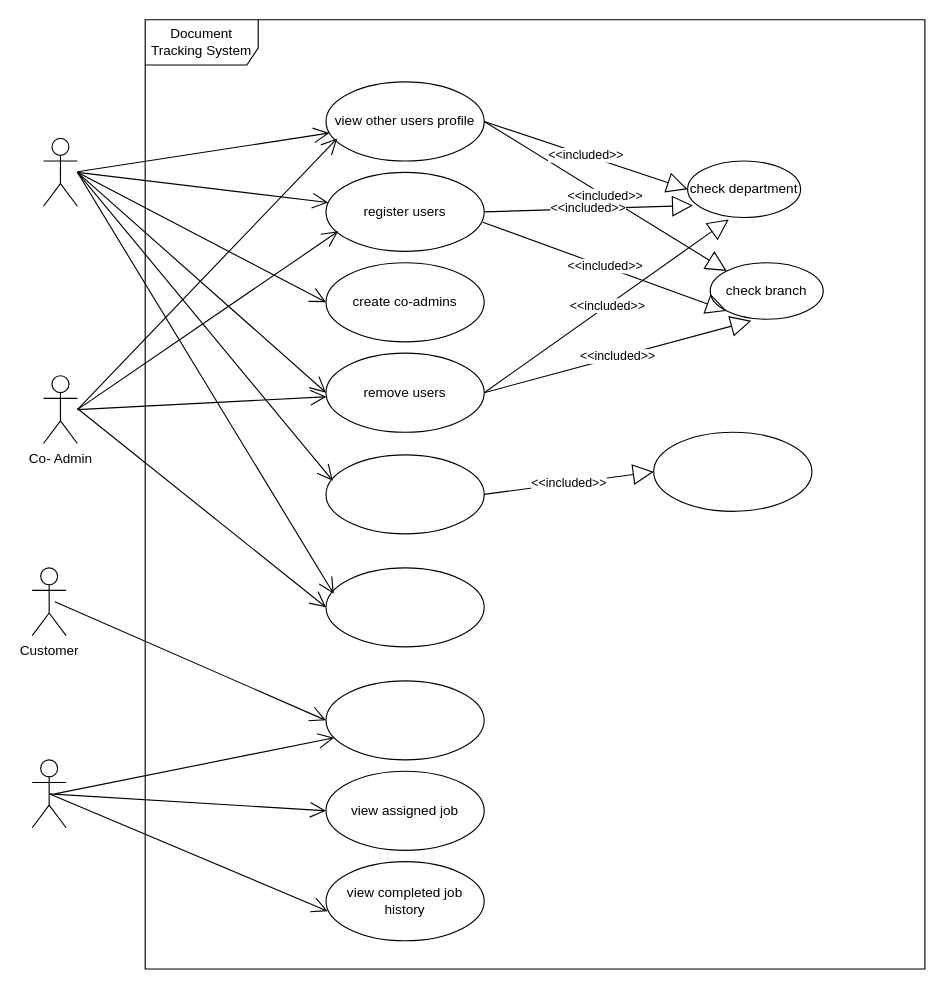
The diagram is 945 pixels wide and 989 high, and some of its shapes have lost their labels. The shapes that lost their labels are listed below. From the top down, each one's centre as x and y in pixels, then its label:
At (x=59, y=171): "Admin".
At (x=732, y=471): "check employee log".
At (x=404, y=494): "view available employees".
At (x=404, y=607): "view users' requests".
At (x=404, y=720): "send request for register".
At (x=48, y=793): "Employee".
